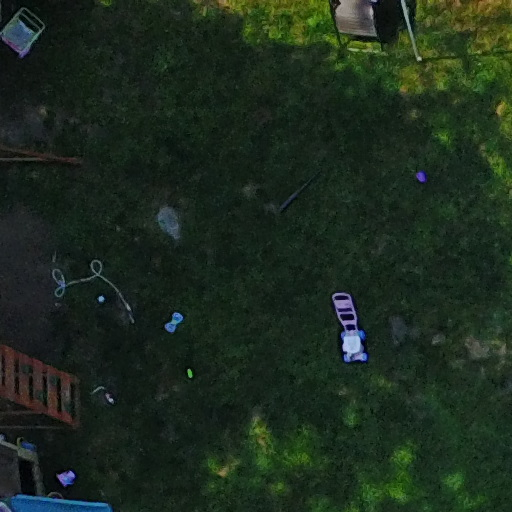toy: (315, 292, 383, 378), (160, 303, 193, 338), (51, 468, 86, 491)
